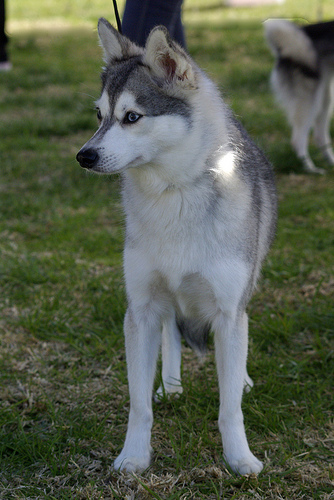dog: (68, 13, 278, 483), (255, 17, 332, 176)
